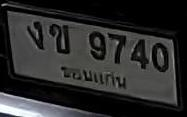number: (22, 15, 172, 73)
province: (57, 63, 128, 92)
